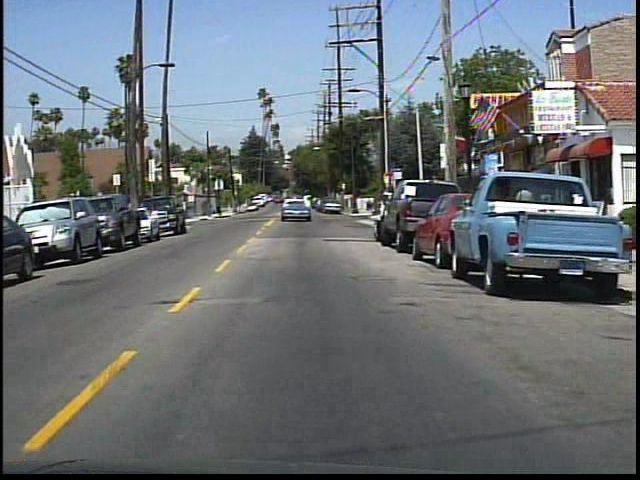person: (513, 179, 536, 234)
